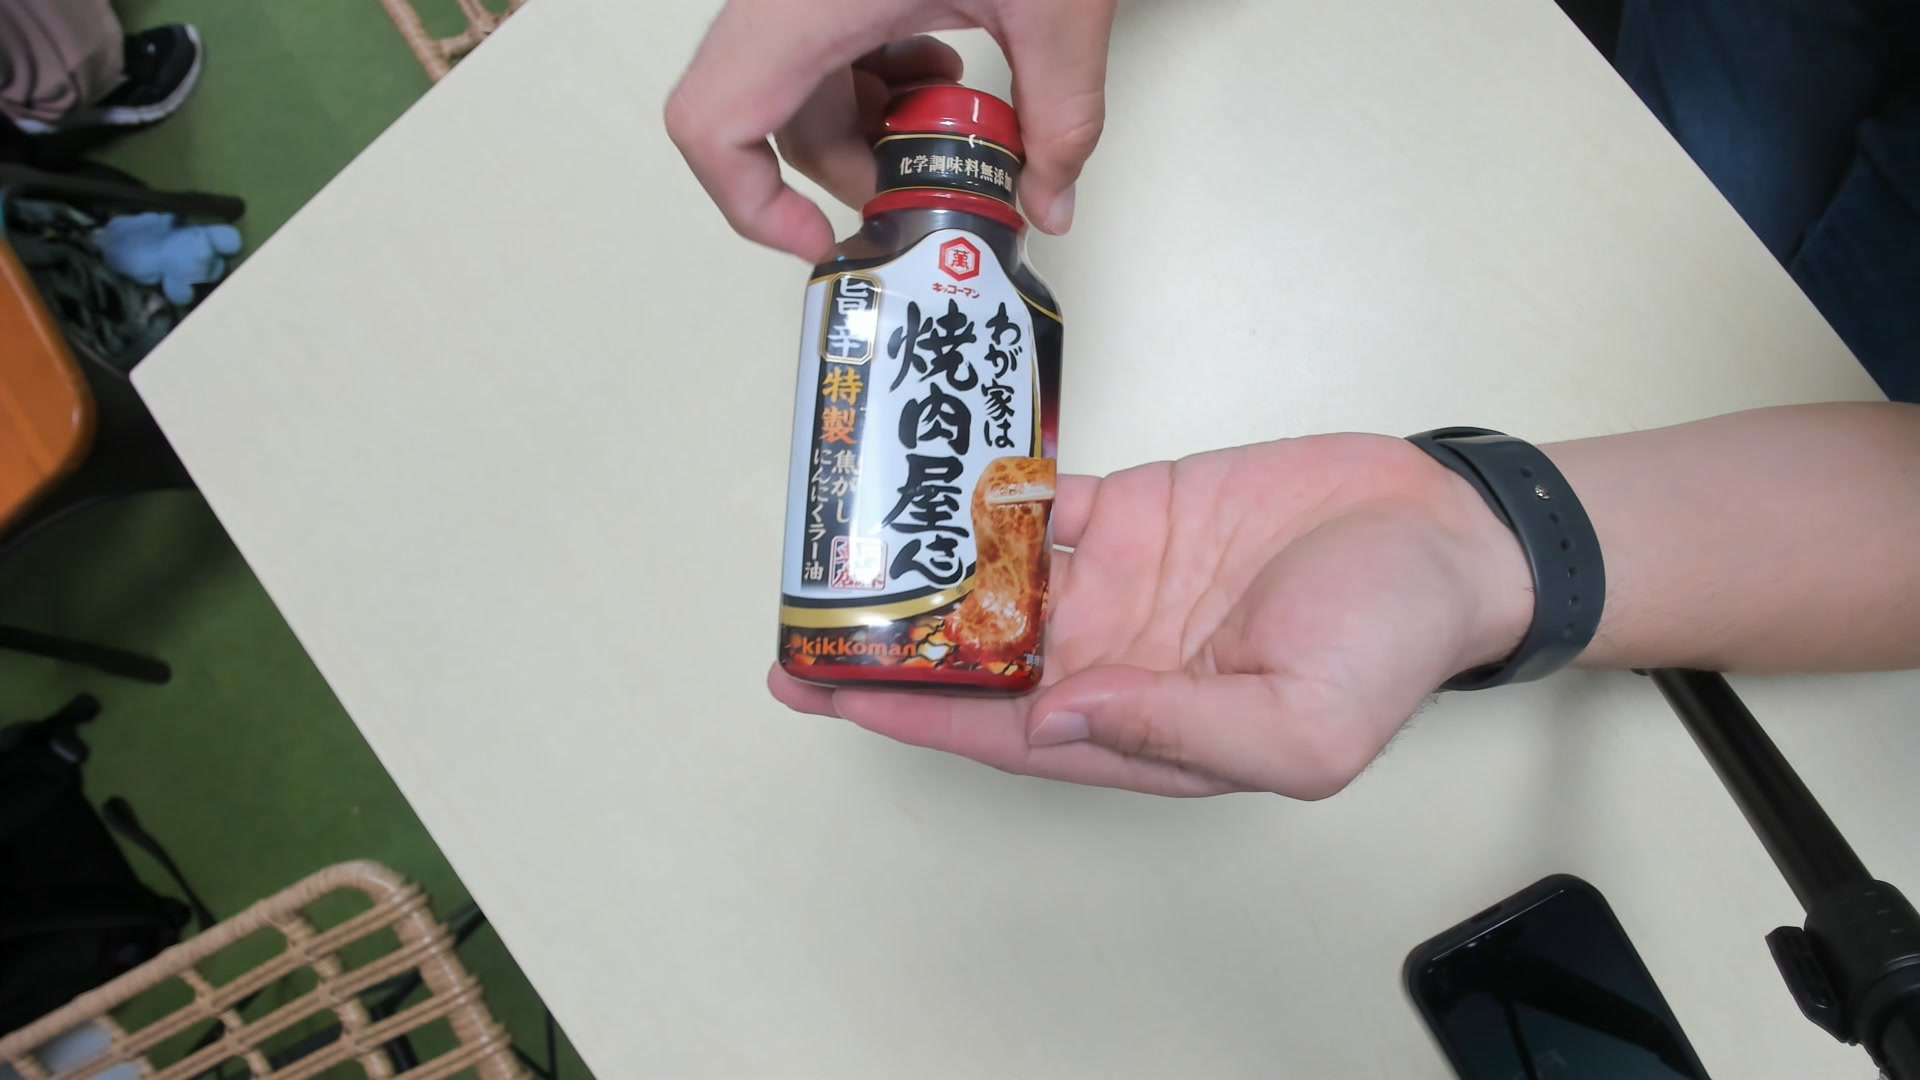OtherSauceDressing_200-299g_NonHalal_NonHealthy: (778, 82, 1065, 694)
